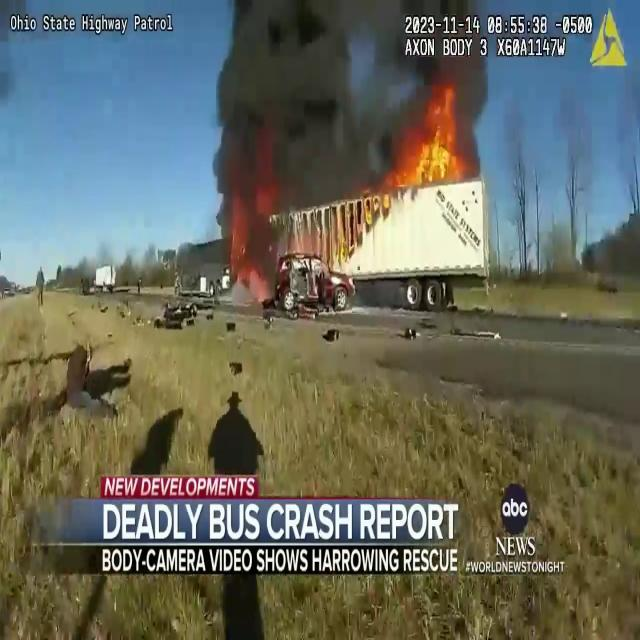Fire: (394, 89, 476, 188)
Smoke: (212, 0, 346, 273), (362, 0, 504, 186)
